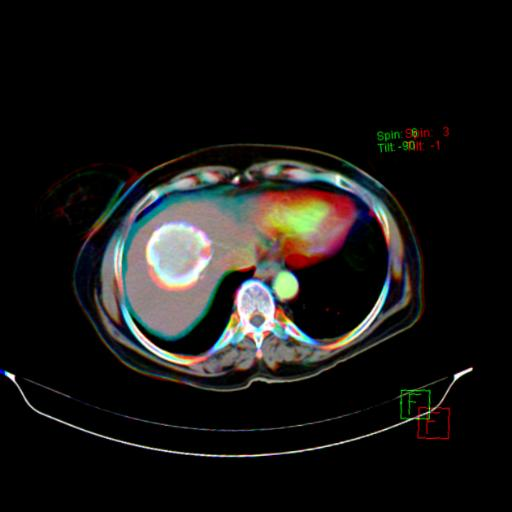Cyst: (145, 222, 212, 290)
